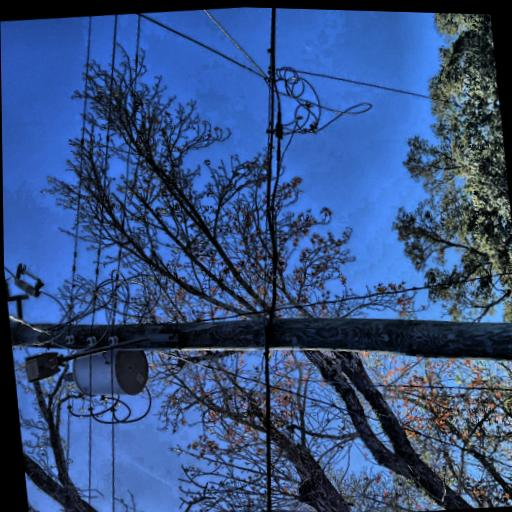pole: (1, 36, 120, 512)
street light: (15, 130, 74, 310)
transformer: (6, 185, 61, 272)
